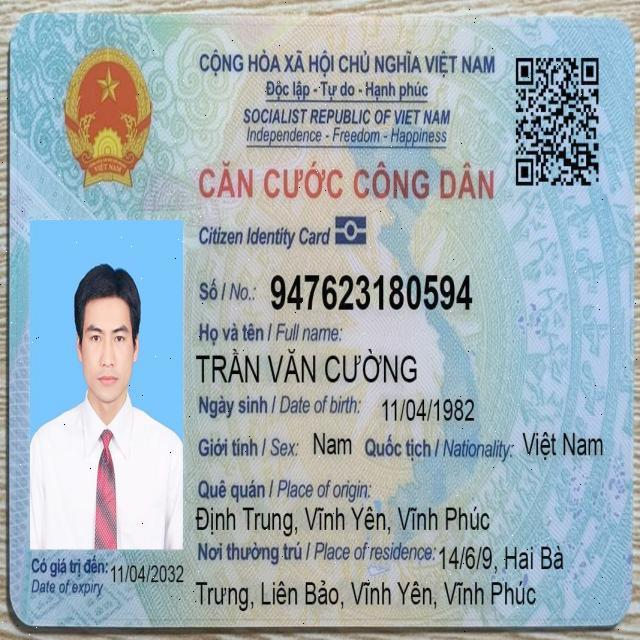current_place: (191, 576, 542, 615), (435, 539, 568, 577)
dob: (378, 391, 478, 428)
expire_date: (107, 555, 187, 591)
gender: (309, 426, 355, 464)
id: (265, 266, 478, 318)
name: (192, 343, 421, 390)
nationality: (519, 424, 606, 467)
origin_place: (191, 498, 493, 541)
